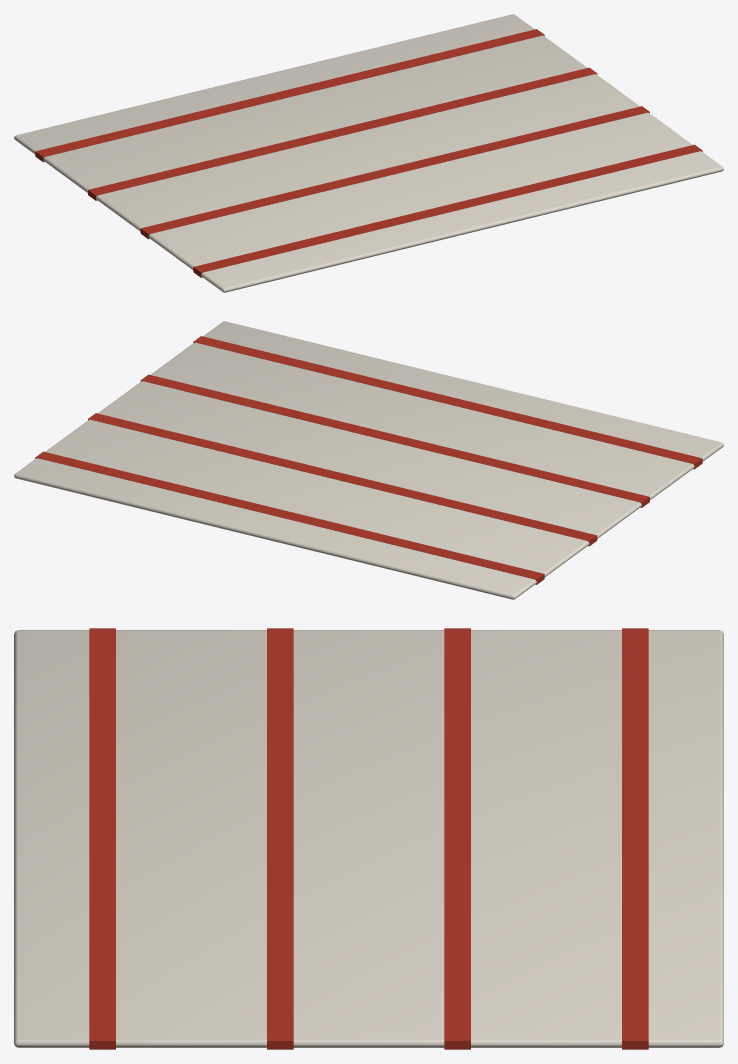
File: giay_goi.glb
3 renders of one model, top to bottom at view 1: azimuth 30°, elevation 25°; view 2: azimuth 150°, elevation 25°; view 3: azimuth 270°, elevation 25°, orthographic. The views are drawn at different scales.
Visible parts, largest first — view 1: giay_goi; view 2: giay_goi; view 3: giay_goi.
Part boxes in pixels (x1,y1,x2,y2): giay_goi: (14, 14, 723, 292); giay_goi: (14, 321, 723, 599); giay_goi: (14, 628, 723, 1049).
Size of the model in its own units: 0.22 by 0.0022 by 0.16.
